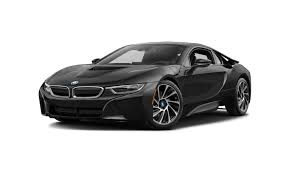bmw: (22, 36, 271, 132)
